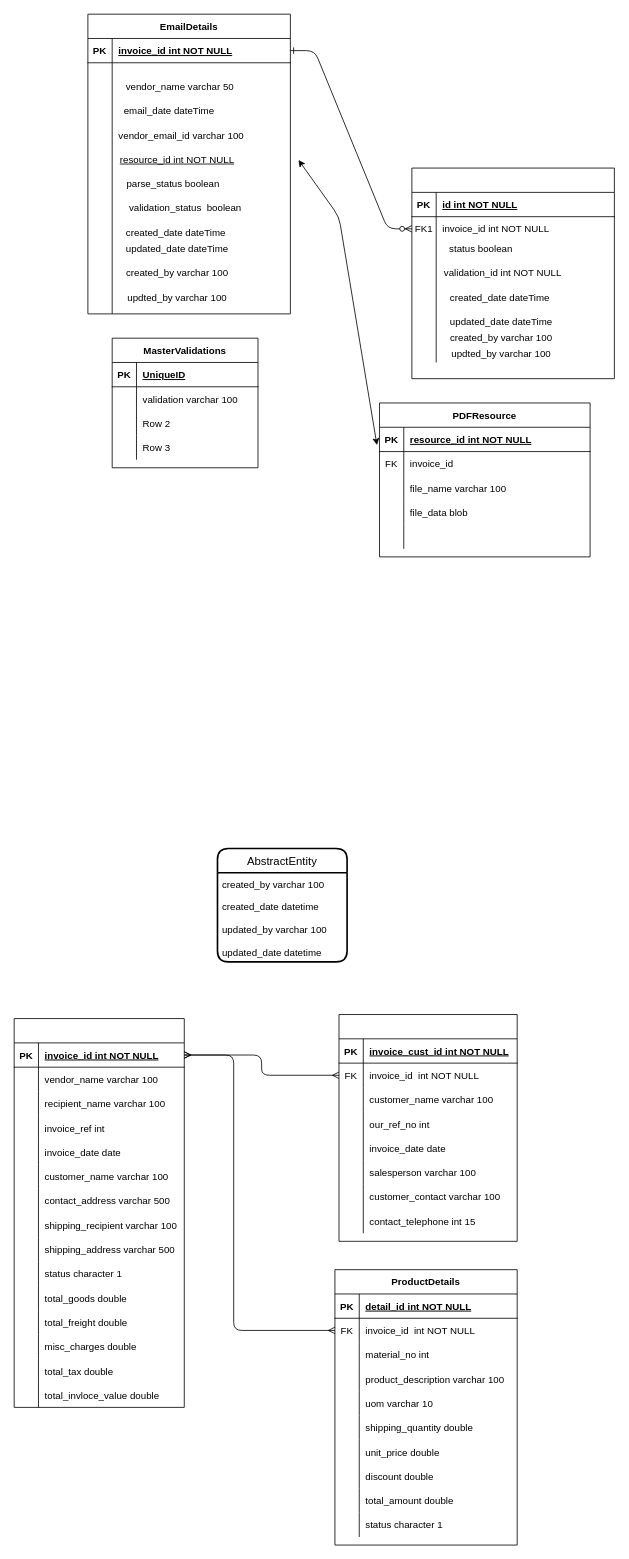
This 629x1559 diagram has some shape labels left out. Each missing label, with the box of its shape:
InvoiceCustomerDetails: (338, 1014, 517, 1241)
InvoiceMaster: (13, 1018, 184, 1407)
MapInvoiceValidation: (411, 167, 614, 379)
